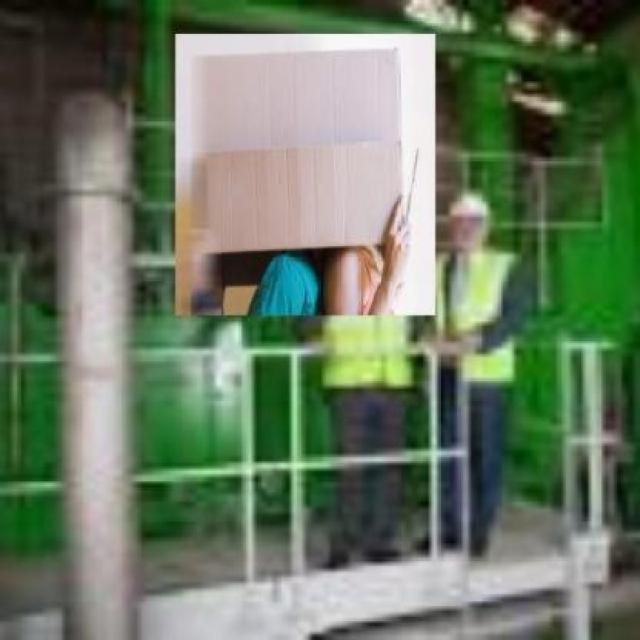box: (172, 30, 440, 321)
